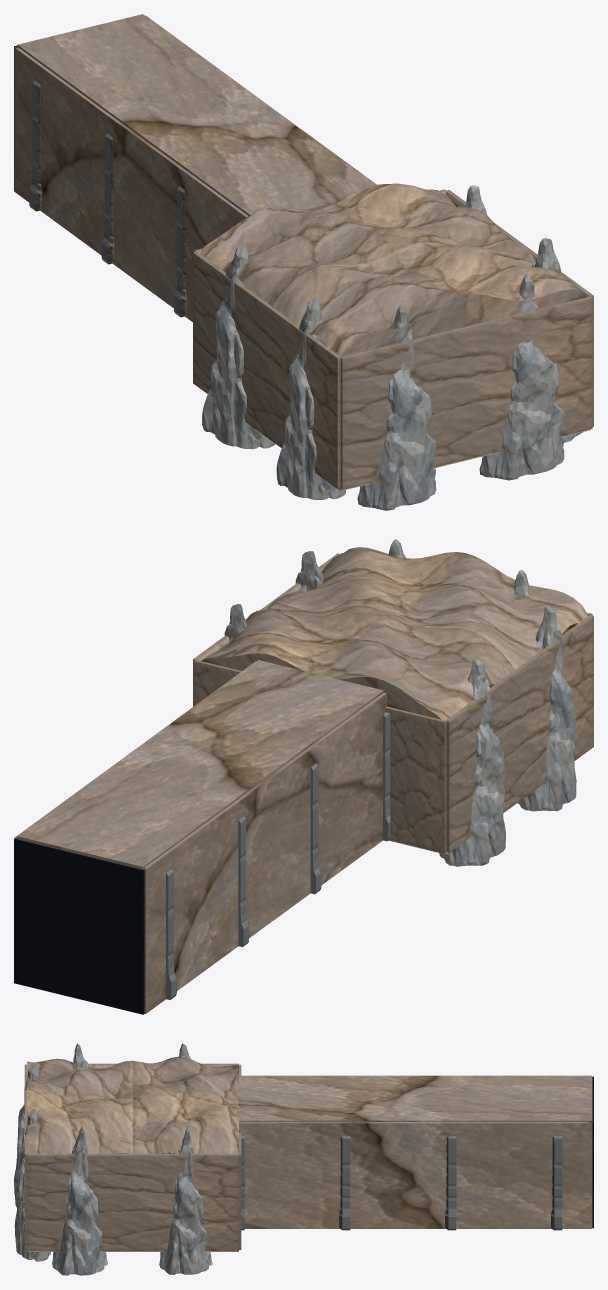
File: room.glb
3 renders of one model, top to bottom at view 1: azimuth 30°, elevation 25°; view 2: azimuth 150°, elevation 25°; view 3: azimuth 270°, elevation 25°, orthographic. The views are drawn at different scales.
Visible parts, largest first — view 1: IN-CAGE; view 2: IN-CAGE; view 3: IN-CAGE.
Boxes of the visible parts, <box> form: IN-CAGE: <box>14,14,593,510</box>; IN-CAGE: <box>14,539,593,1014</box>; IN-CAGE: <box>14,1043,593,1275</box>.
Bounding box in the file's own units: 6.89 × 4.35 × 16.43.
1 material, 1 textured.
